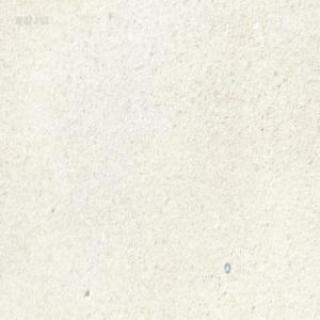Washertrack_idkeyframe: (223, 261, 230, 272)
